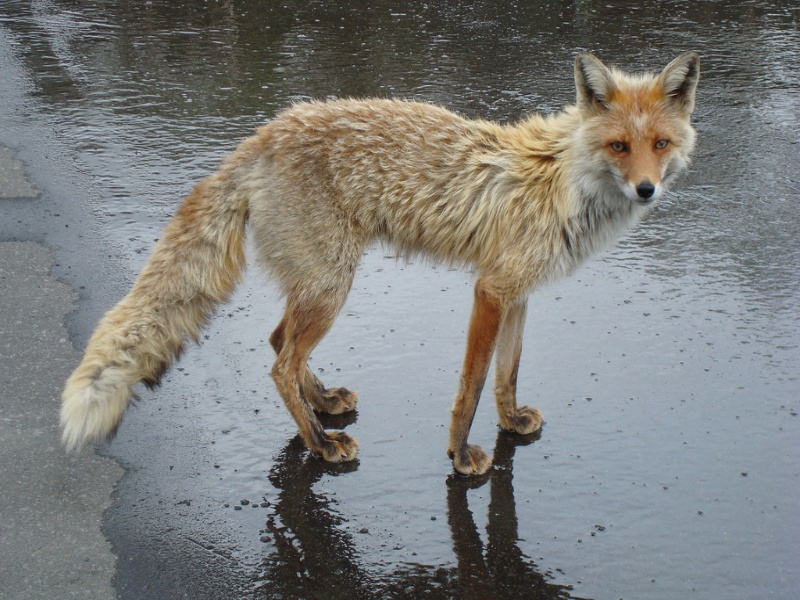fox: (54, 44, 707, 489)
